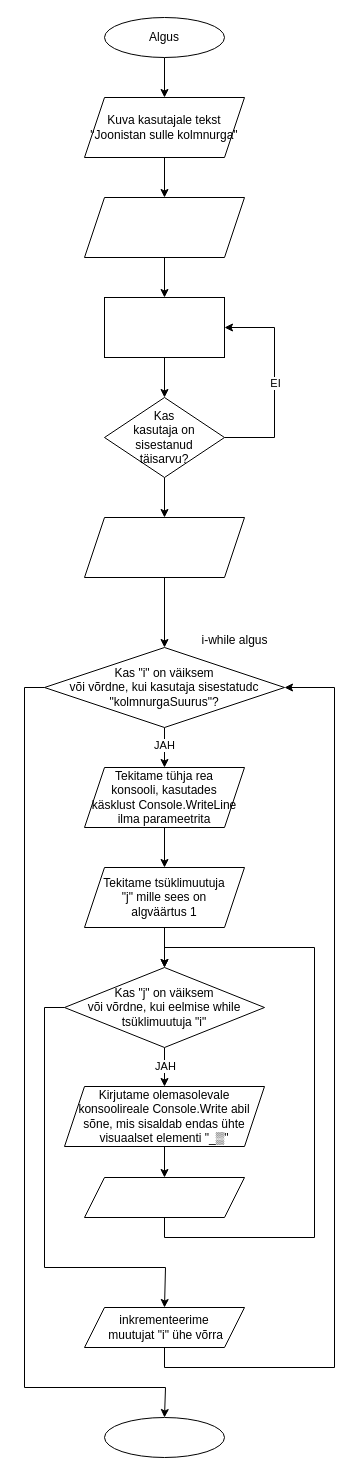
The diagram is 360 pixels wide and 1483 high, and some of its shapes have lost their labels. Here are the shapes that lost their labels. From the top down, the box of each, then its label:
(84, 196, 244, 258): Tekitame muutuja nimega "kolmnurgaSuurus" kuhu tuleb käsurealt täisarv
(104, 296, 224, 358): Ootab kasutajalt sisendit
(84, 516, 244, 578): Tekitame tsüklimuutuja "i", mille sees on algväärtus 1.
(84, 1176, 244, 1218): inkrementeerime muutujat"j" ühe võrra
(104, 1416, 224, 1458): Lõpp
